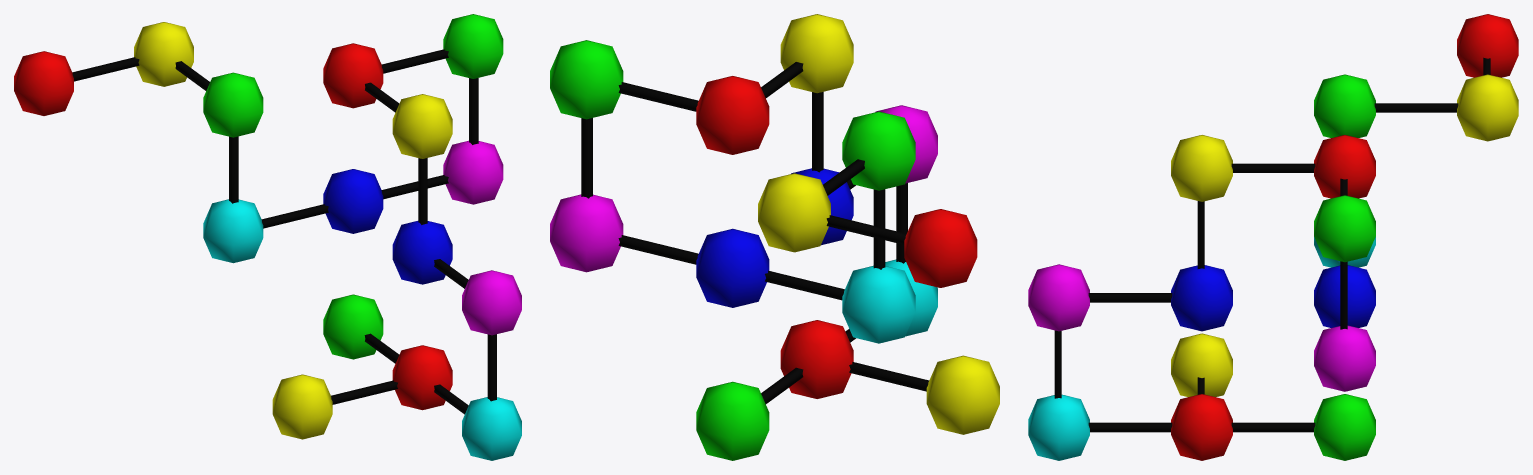
Rendered from Drug.fbx.
3 views of the same model, side by side, from view 1: azimuth 30°, elevation 25°; view 2: azimuth 150°, elevation 25°; view 3: azimuth 270°, elevation 25° (orthographic). The views are drawn at different scales.
Visible parts, largest first — view 1: Ball13, Ball7, Ball3, Ball15, Ball5, Ball9, Ball11, Ball12, Ball4, Ball10, Ball8, Ball1 (+12 smaller); view 2: Ball1, Ball3, Ball15, Ball8, Ball9, Ball11, Ball12, Ball14, Ball10, Ball7, Ball13, Ball2 (+15 smaller); view 3: Ball9, Ball14, Ball5, Ball1, Ball7, Ball2, Ball10, Ball6, Ball4, Ball13, Ball15, Ball3 (+10 smaller).
Part boxes in pixels (bbox=[...]): Ball13: bbox=[203, 72, 263, 137]; Ball7: bbox=[392, 94, 452, 158]; Ball3: bbox=[272, 374, 332, 439]; Ball15: bbox=[14, 51, 73, 115]; Ball5: bbox=[462, 270, 521, 335]; Ball9: bbox=[443, 14, 503, 78]; Ball11: bbox=[323, 169, 383, 233]; Ball12: bbox=[203, 199, 263, 263]; Ball4: bbox=[462, 397, 521, 460]; Ball10: bbox=[443, 140, 503, 204]; Ball8: bbox=[323, 43, 383, 108]; Ball1: bbox=[323, 294, 383, 359]; Ball1: bbox=[696, 381, 769, 460]; Ball3: bbox=[926, 355, 999, 434]; Ball15: bbox=[904, 209, 977, 287]; Ball8: bbox=[696, 76, 769, 154]; Ball9: bbox=[550, 40, 623, 119]; Ball11: bbox=[696, 228, 769, 307]; Ball12: bbox=[842, 265, 915, 343]; Ball14: bbox=[758, 173, 830, 252]; Ball10: bbox=[550, 194, 623, 272]; Ball7: bbox=[780, 14, 853, 93]; Ball13: bbox=[842, 111, 915, 190]; Ball2: bbox=[780, 320, 853, 398]; Ball9: bbox=[1314, 195, 1375, 262]; Ball14: bbox=[1457, 74, 1518, 141]; Ball5: bbox=[1028, 264, 1089, 331]; Ball1: bbox=[1314, 394, 1375, 460]; Ball7: bbox=[1171, 135, 1232, 201]; Ball2: bbox=[1171, 394, 1232, 460]; Ball10: bbox=[1314, 325, 1375, 391]; Ball6: bbox=[1171, 265, 1232, 331]; Ball4: bbox=[1028, 394, 1089, 460]; Ball13: bbox=[1314, 74, 1375, 137]; Ball15: bbox=[1457, 14, 1518, 77]; Ball3: bbox=[1171, 333, 1232, 396].
Bounding box in the file's own units: 7 × 5 × 6.87.
